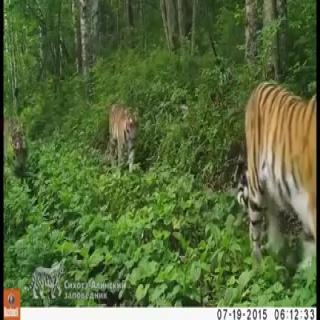Tiger: (227, 66, 320, 258), (103, 92, 147, 182), (1, 108, 38, 174)
